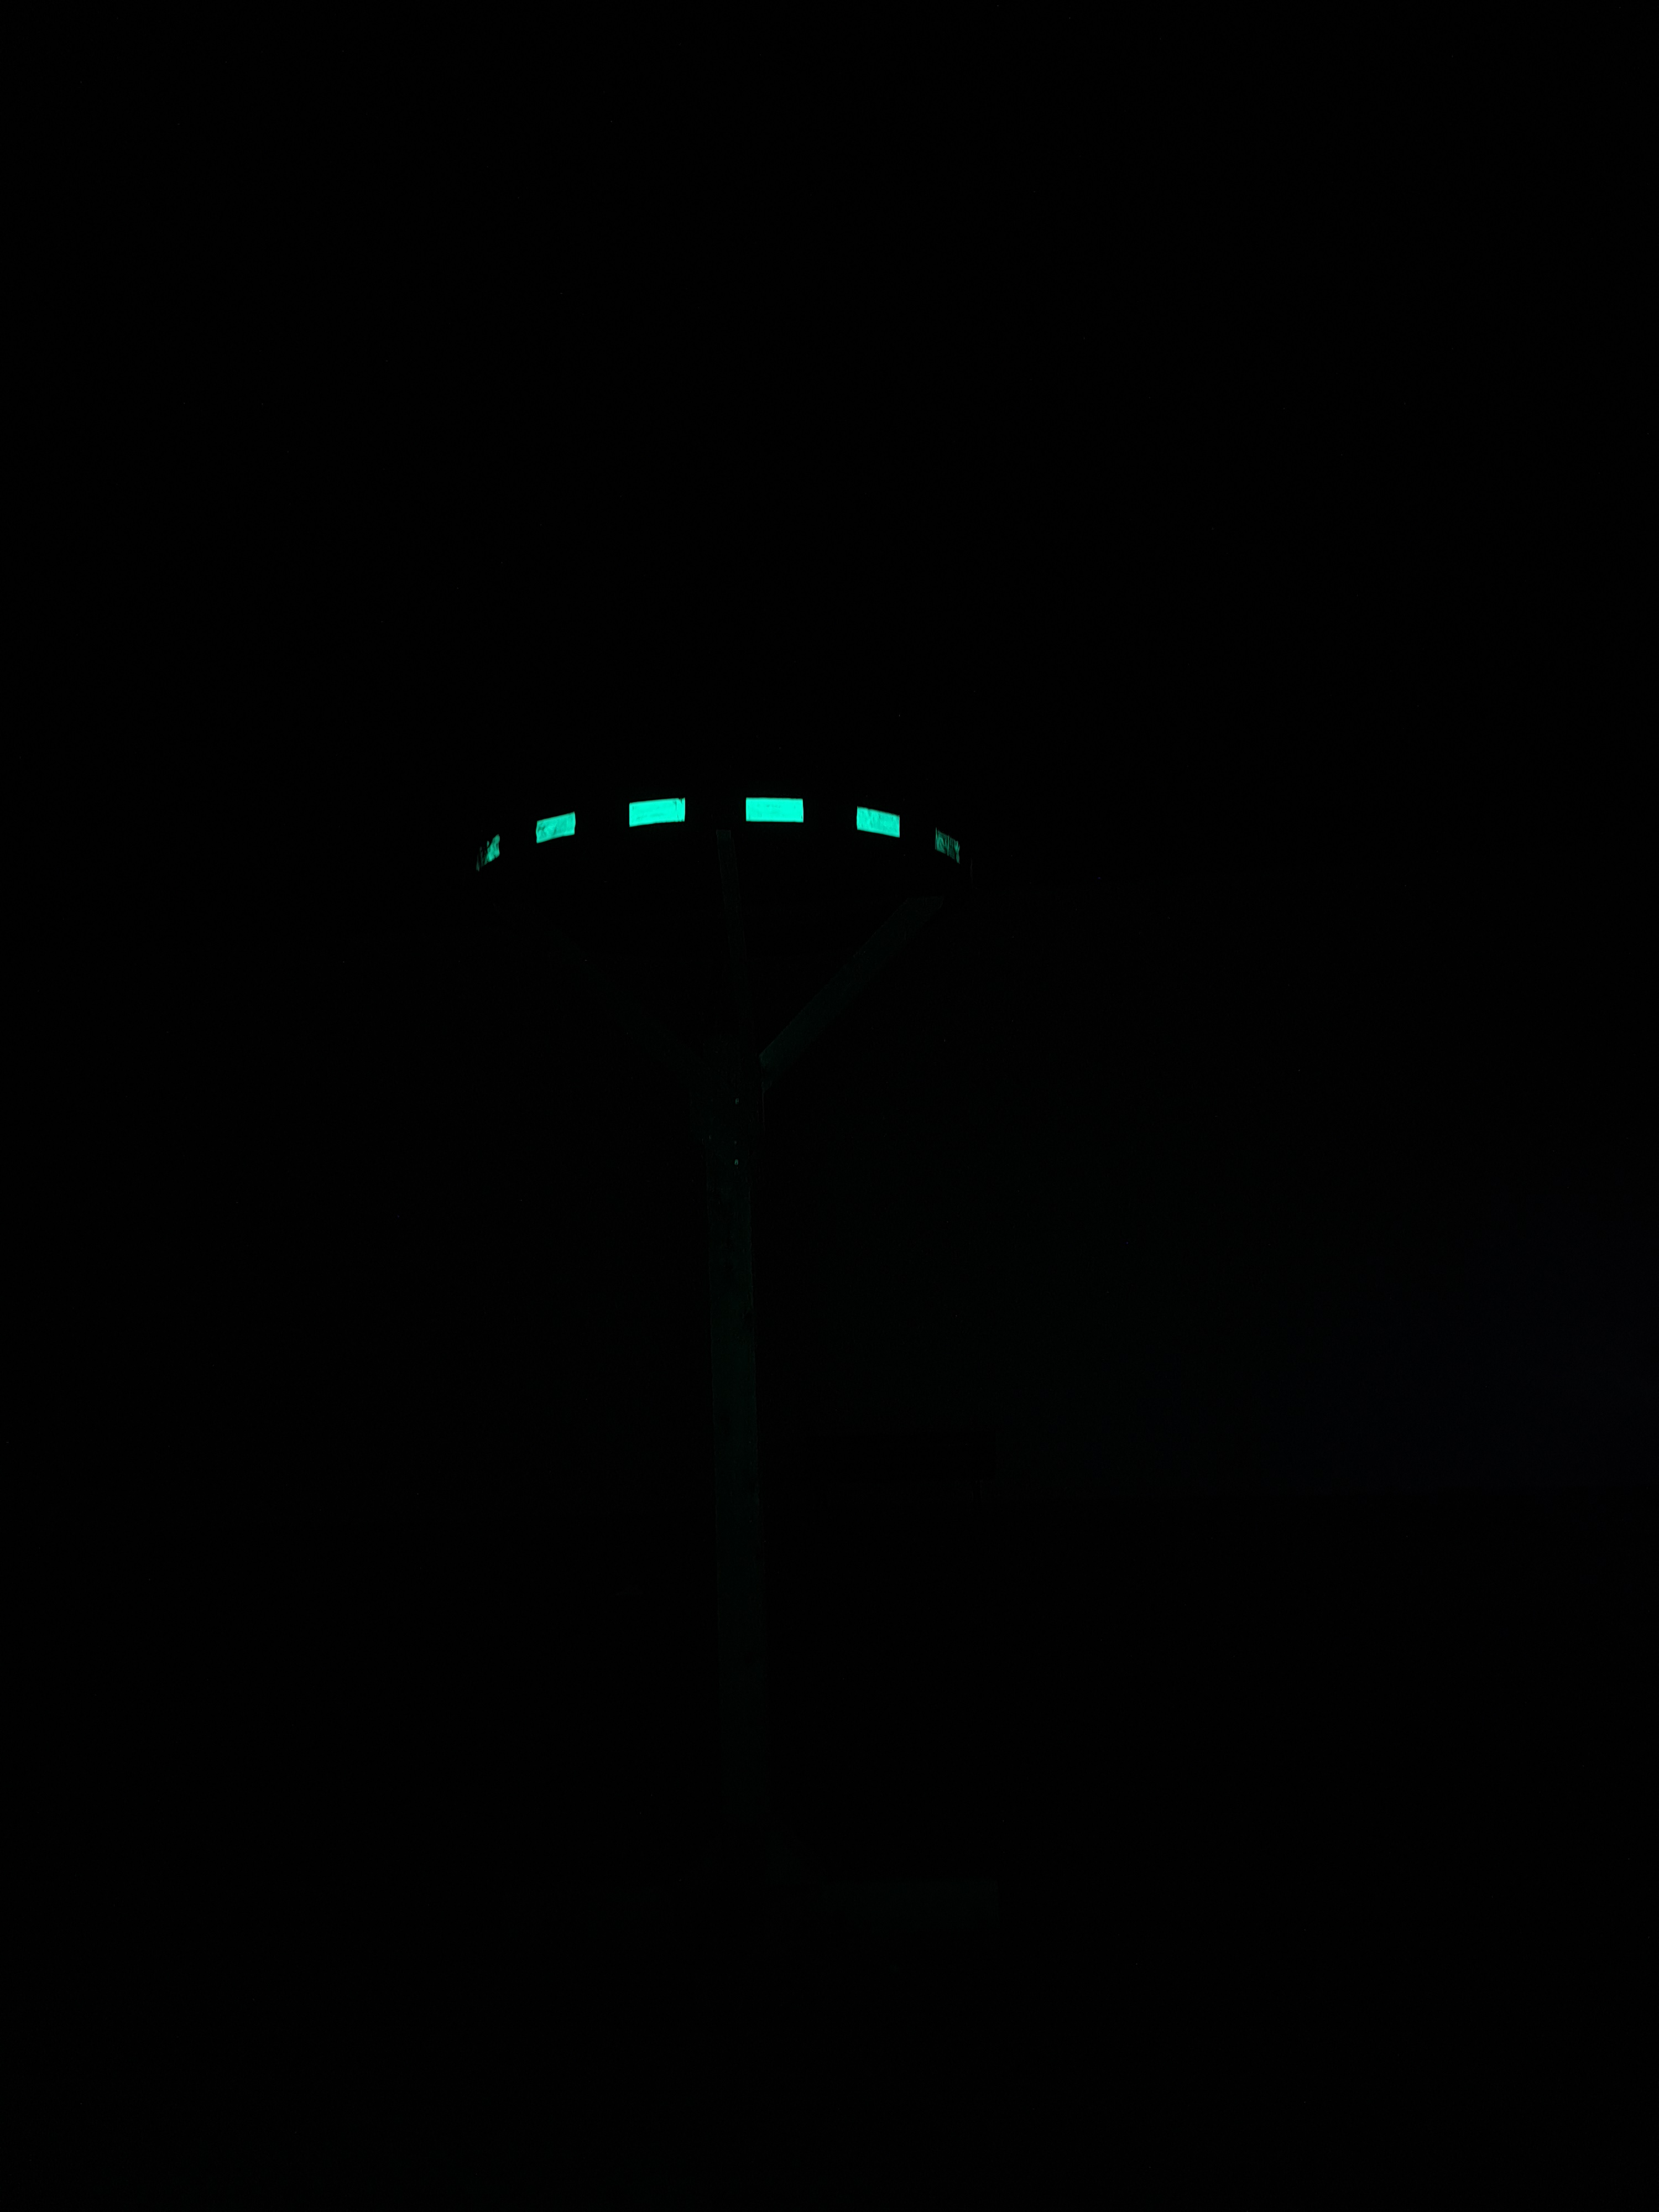hoop: (467, 786, 964, 881)
